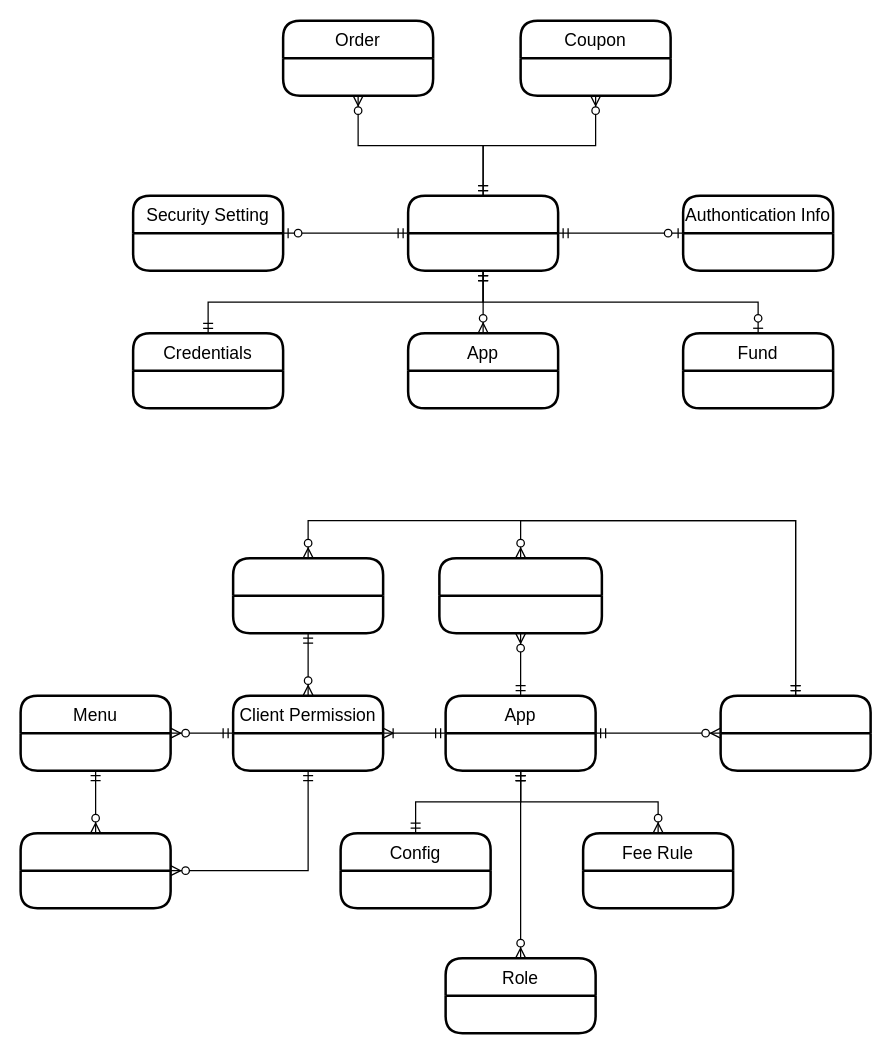
Some shapes in this 891 by 1054 pixel diagram are drawn without their labels. The centre of each missing label's shape, as x and y in pixels:
Function: point (307, 595)
JNOS Account: point (482, 232)
Operation: point (95, 870)
Resource: point (520, 595)
Version: point (795, 732)
